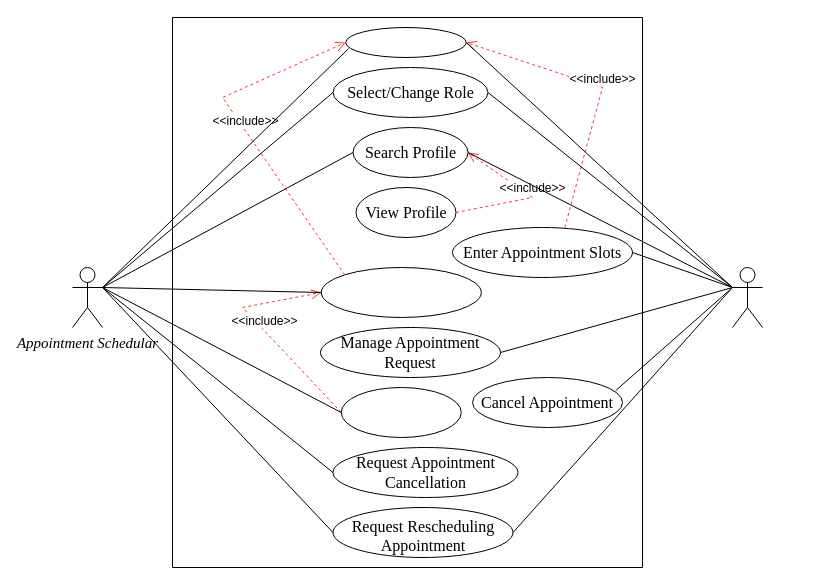
Image size: 836x585. Some labels were removed from this diagram. Each missing label, with the centre of its shape:
Appointment Receiver: [747,297]
Register/Login: [405,42]
Request Appointment: [400,412]
View/Choose Appointment Slots: [400,292]
